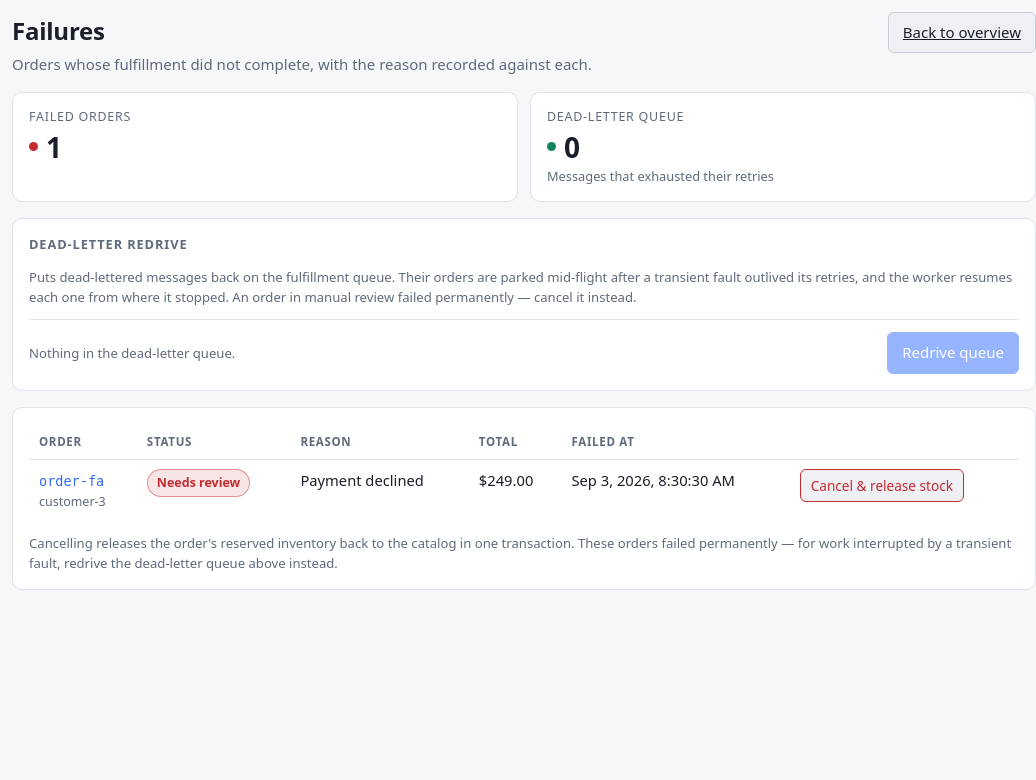
FailuresPage › surfaces a rejected cancel
Click the button "Cancel & release stock": click(882, 486) [800,469,964,502]
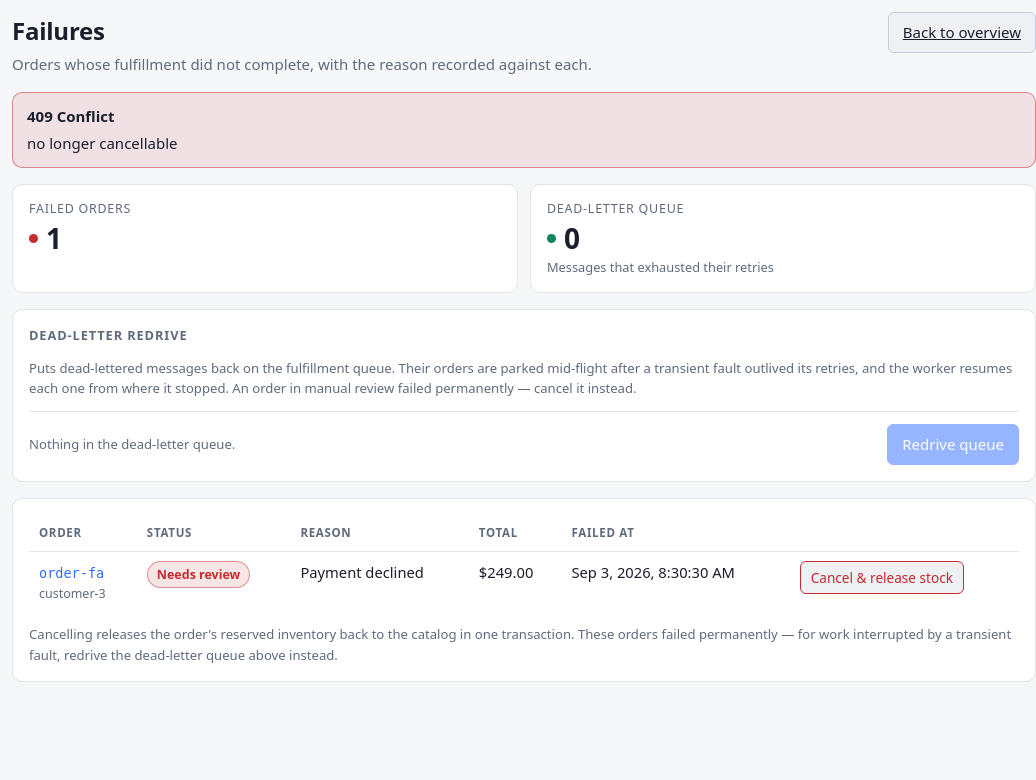
Result: the message shows "no longer cancellable" at [27,133,178,153]
